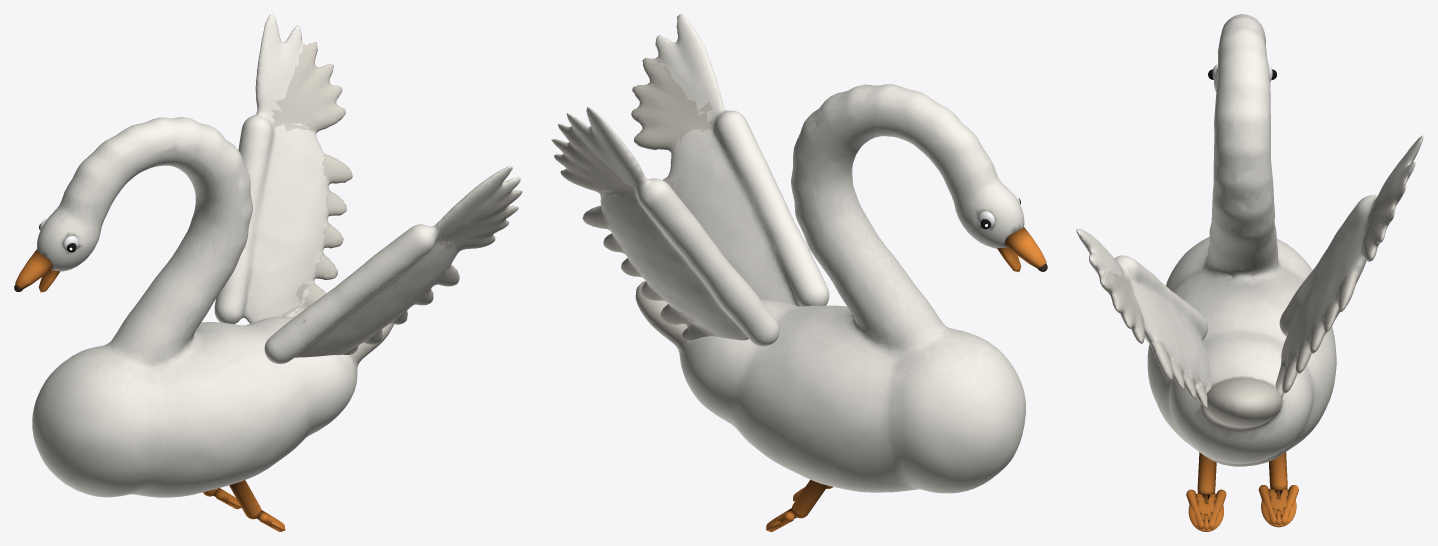
Rendered from ring-112.glb.
3 views of the same model, side by side, from view 1: azimuth 30°, elevation 25°; view 2: azimuth 150°, elevation 25°; view 3: azimuth 270°, elevation 25° (orthographic). The views are drawn at different scales.
Parts seen in each view (by area): view 1: ganso__r0, asaLonge__r0, asaPerto__r0, ganso__r7, ganso__r17; view 2: ganso__r0, asaPerto__r0, asaLonge__r0, ganso__r7, ganso__r12; view 3: ganso__r0, asaLonge__r0, asaPerto__r0, ganso__r16, ganso__r21, ganso__r17, ganso__r12.
Boxes of the visible parts, x1,y1,x2,y2 form: ganso__r0: (32,117,393,497); asaLonge__r0: (214,14,352,324); asaPerto__r0: (264,166,522,364); ganso__r7: (15,250,52,288); ganso__r17: (229,480,261,519); ganso__r0: (635,84,1025,493); asaPerto__r0: (631,14,829,306); asaLonge__r0: (551,107,779,346); ganso__r7: (1005,227,1046,268); ganso__r12: (791,479,827,518); ganso__r0: (1147,14,1336,466); asaLonge__r0: (1275,135,1423,398); asaPerto__r0: (1076,229,1211,409); ganso__r16: (1261,488,1296,527); ganso__r21: (1188,493,1223,531); ganso__r17: (1197,452,1216,494); ganso__r12: (1269,452,1287,490).
Bounding box in the file's own units: 1.95 × 1.78 × 1.25.
